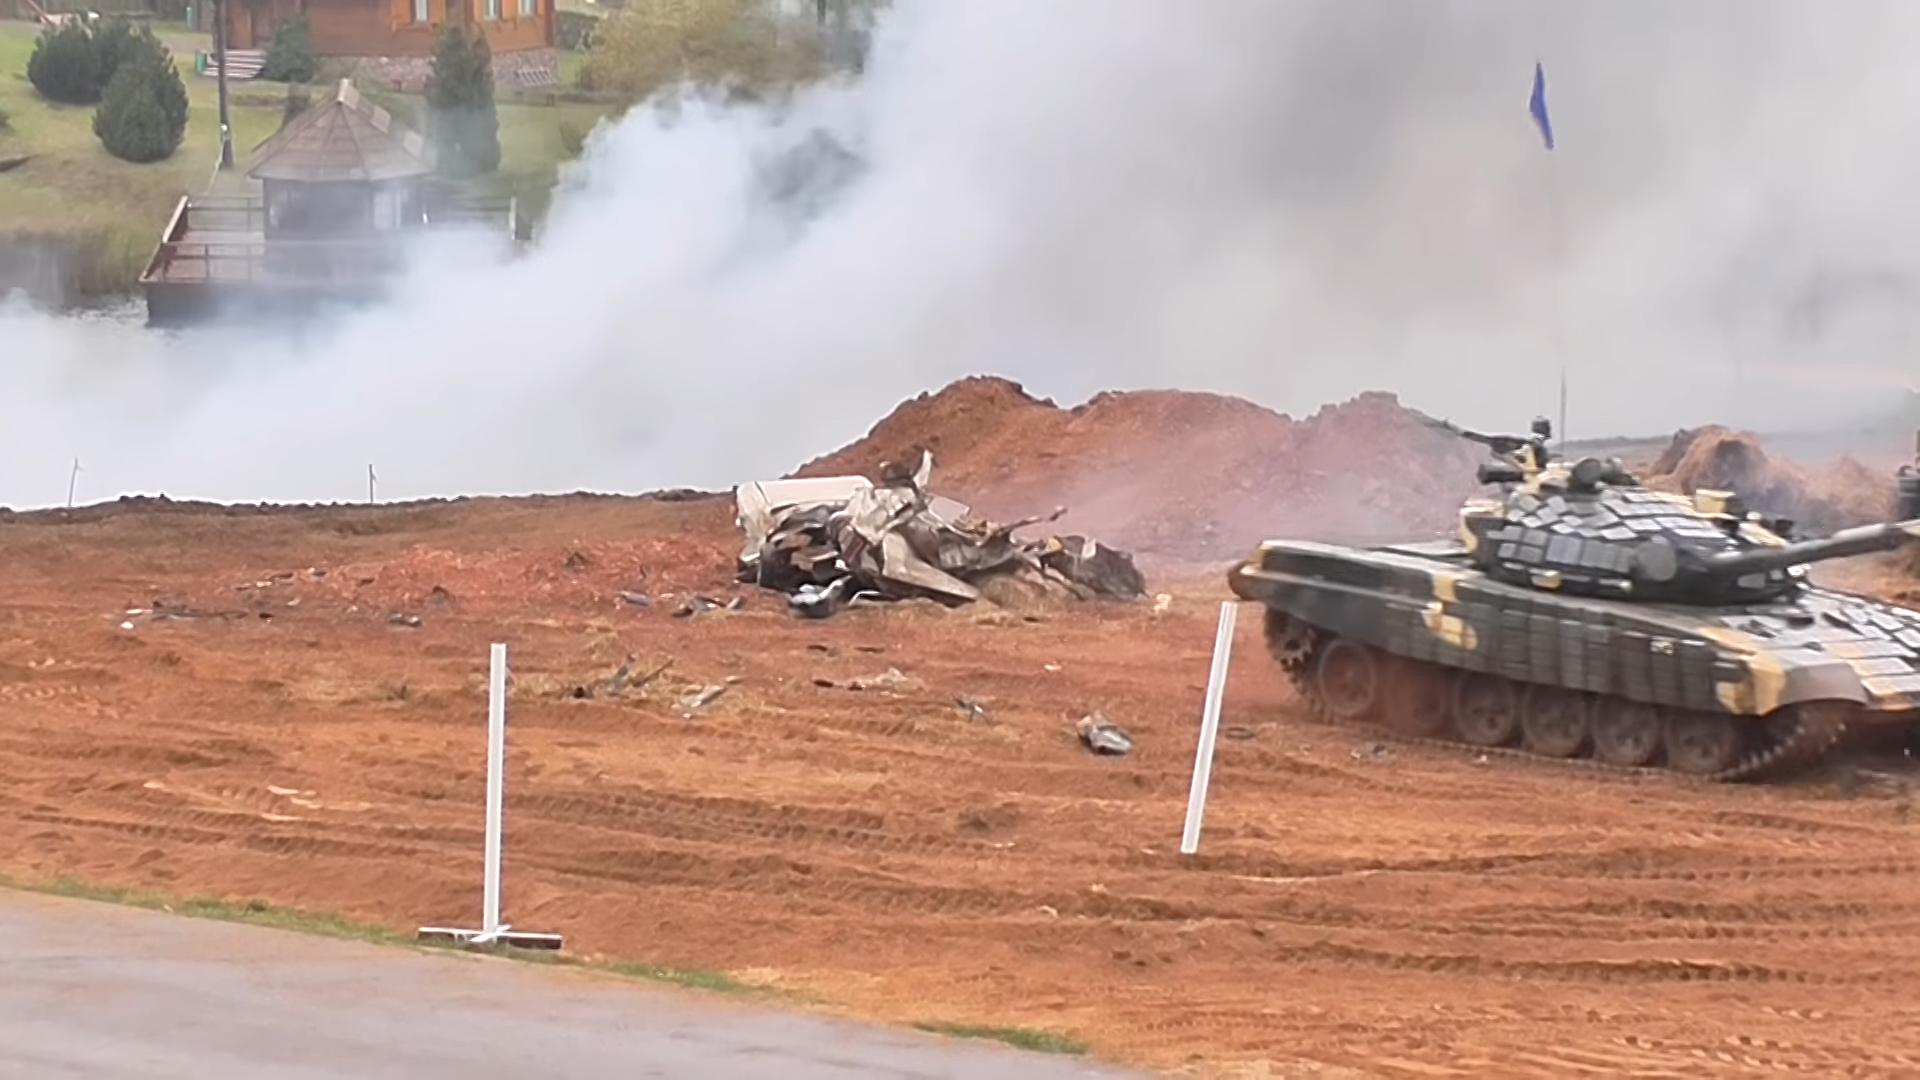tank: (1226, 422, 1919, 779)
